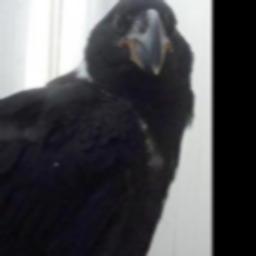Crow: (0, 0, 199, 256)
